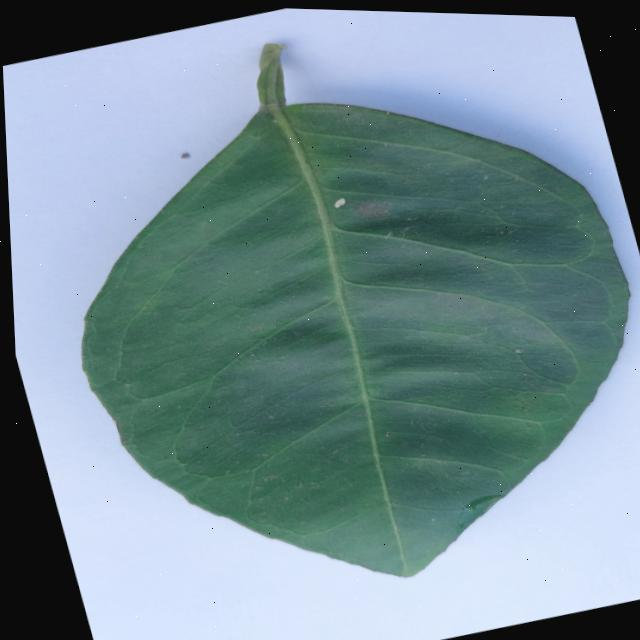greening: (83, 46, 628, 576)
